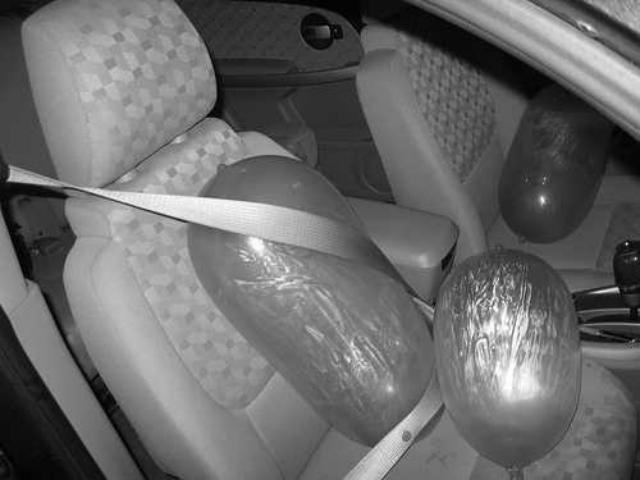Seatbelt: (0, 158, 446, 480)
